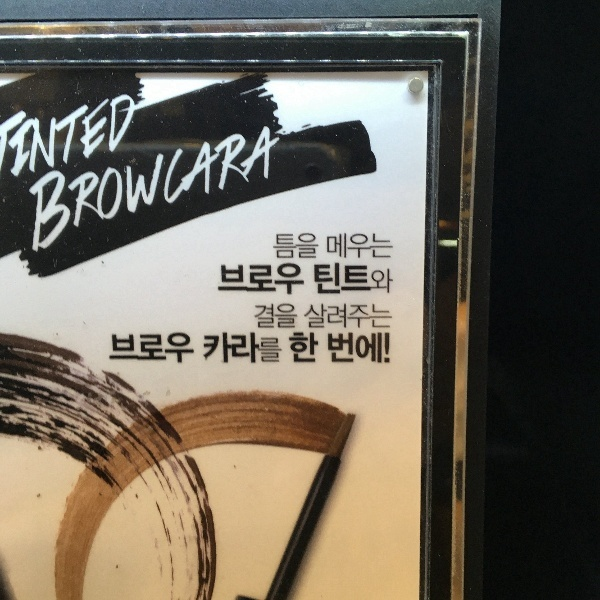text: (33, 124, 48, 256), (49, 124, 64, 256), (65, 124, 80, 256), (81, 124, 96, 256), (97, 124, 112, 256), (113, 124, 128, 256), (129, 124, 144, 256), (145, 124, 160, 256), (161, 124, 176, 256), (177, 124, 192, 256), (193, 124, 208, 256), (209, 124, 224, 256), (225, 124, 240, 256), (241, 124, 256, 256), (257, 124, 272, 256), (273, 124, 283, 256), (17, 92, 32, 180), (33, 92, 48, 180), (49, 92, 64, 180), (65, 92, 80, 180), (81, 92, 96, 180), (97, 92, 112, 180), (113, 92, 128, 180), (1, 109, 16, 176), (17, 109, 29, 176), (129, 92, 136, 180), (289, 262, 305, 297), (113, 331, 128, 367), (129, 331, 144, 367), (145, 331, 160, 367), (161, 331, 176, 367), (177, 331, 192, 367), (10, 92, 16, 180), (225, 262, 240, 297), (241, 262, 256, 297), (257, 262, 272, 297), (273, 262, 288, 297), (337, 332, 352, 365), (353, 332, 368, 365), (369, 332, 384, 365), (289, 331, 304, 364), (305, 331, 320, 364), (209, 332, 224, 365), (225, 332, 240, 365), (241, 332, 256, 365), (257, 332, 272, 365), (321, 264, 336, 296), (337, 264, 352, 296), (353, 264, 368, 296), (369, 264, 384, 296), (321, 302, 336, 331), (337, 302, 352, 331), (353, 302, 368, 331), (369, 302, 384, 331), (305, 233, 321, 260), (273, 332, 286, 365), (337, 232, 352, 259), (353, 232, 368, 259), (369, 232, 384, 259), (273, 233, 288, 260), (289, 233, 304, 260), (29, 124, 32, 256), (257, 303, 272, 329), (273, 303, 288, 329), (327, 332, 336, 365), (385, 302, 395, 331), (326, 232, 336, 259), (311, 302, 320, 331), (289, 303, 299, 329), (385, 264, 393, 296), (313, 264, 320, 296), (385, 232, 393, 259), (193, 331, 198, 367), (385, 332, 390, 365), (204, 332, 208, 365), (221, 262, 224, 297), (253, 303, 256, 329)
